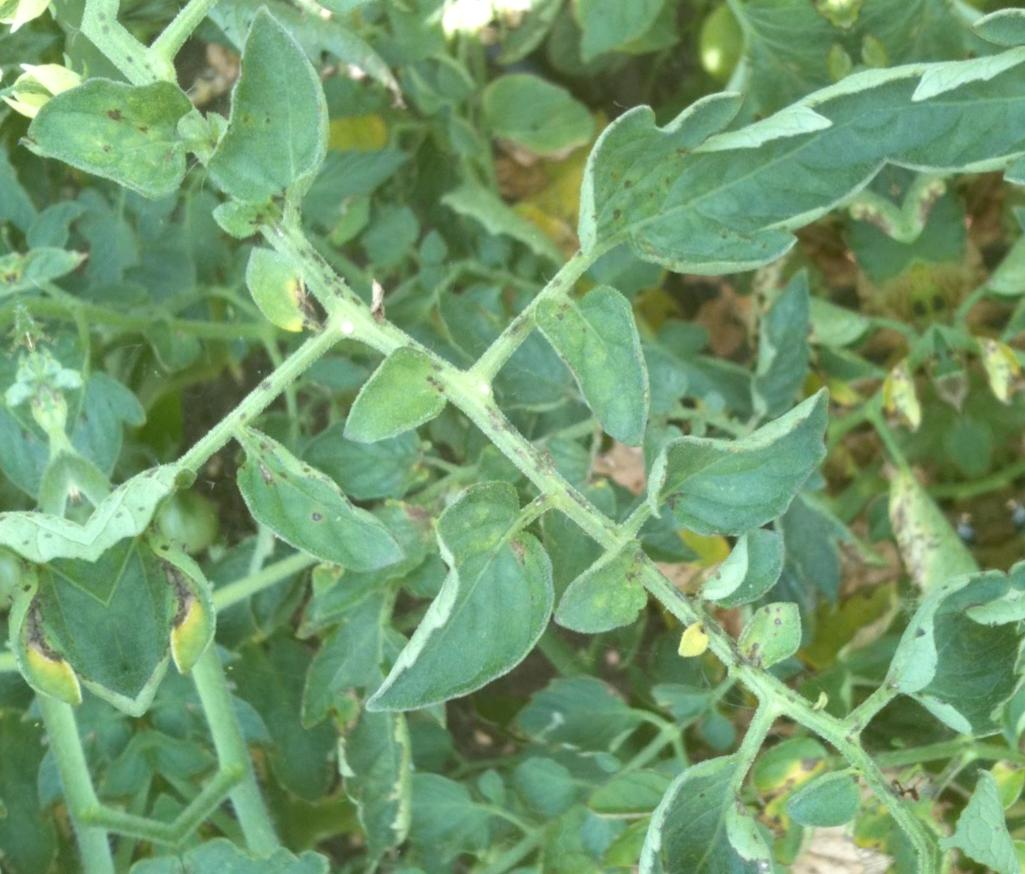Tomato leaf bacterial spot: (542, 13, 908, 321), (324, 461, 589, 738), (486, 687, 839, 874), (170, 0, 381, 279), (508, 237, 708, 498), (0, 24, 237, 242), (200, 384, 414, 617), (716, 581, 839, 704)
